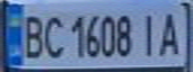0: (100, 10, 118, 57)
1: (66, 10, 84, 58)
6: (84, 11, 103, 58)
8: (115, 10, 136, 58)
A: (154, 5, 187, 57)
B: (18, 10, 48, 60)
C: (39, 10, 66, 60)
I: (136, 9, 163, 57)
